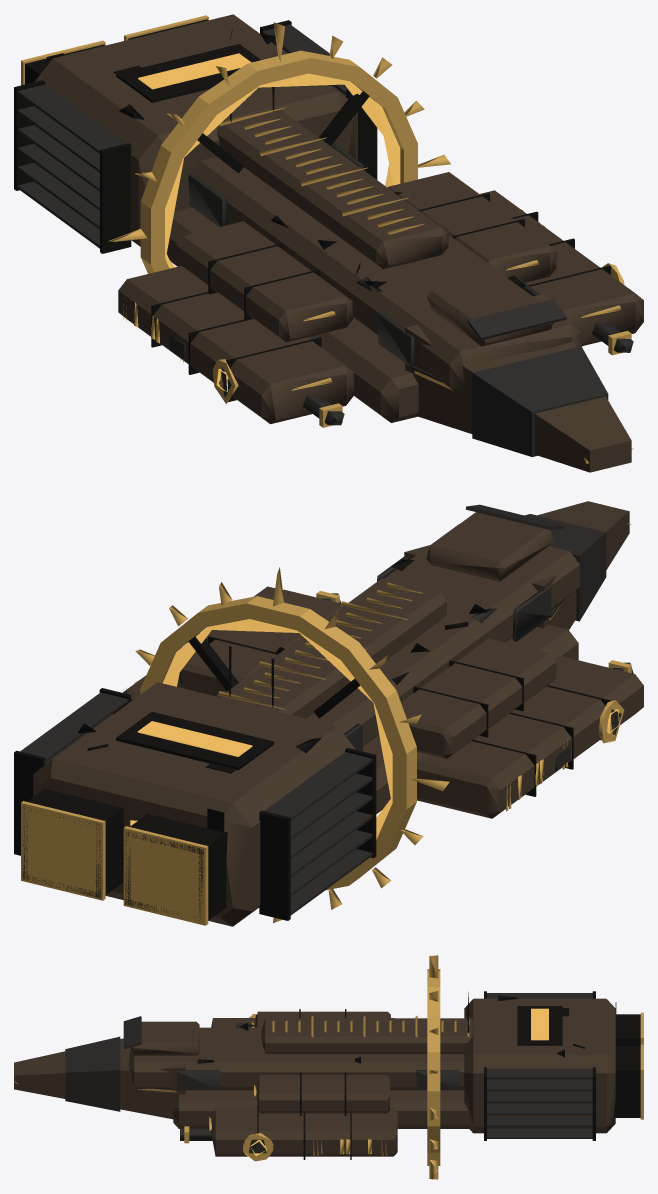
File: goniec-wybudzeni-trade-11-lod1.glb
3 views of the same model, one above another, from view 1: azimuth 30°, elevation 25°; view 2: azimuth 150°, elevation 25°; view 3: azimuth 270°, elevation 25° (orthographic). The views are drawn at different scales.
Size of the model in its own units: 6.52 by 5.57 by 14.24.
